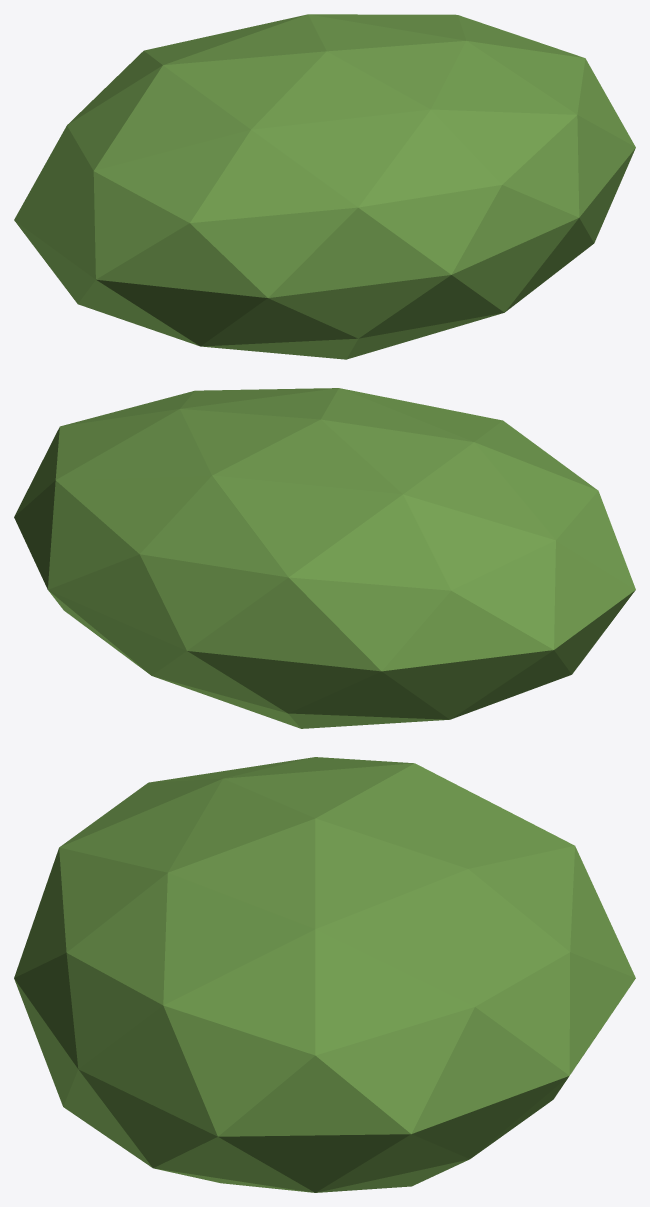
File: Town_Hill.fbx
3 renders of one model, top to bottom at view 1: azimuth 30°, elevation 25°; view 2: azimuth 150°, elevation 25°; view 3: azimuth 270°, elevation 25°, orthographic. The views are drawn at different scales.
Parts seen in each view (by area): view 1: Decor; view 2: Decor; view 3: Decor.
Part boxes in pixels (x1=…): Decor: x1=14, y1=14, x2=635, y2=359; Decor: x1=14, y1=388, x2=635, y2=728; Decor: x1=14, y1=757, x2=635, y2=1192.
Size of the model in its own units: 196 by 90.66 by 162.
